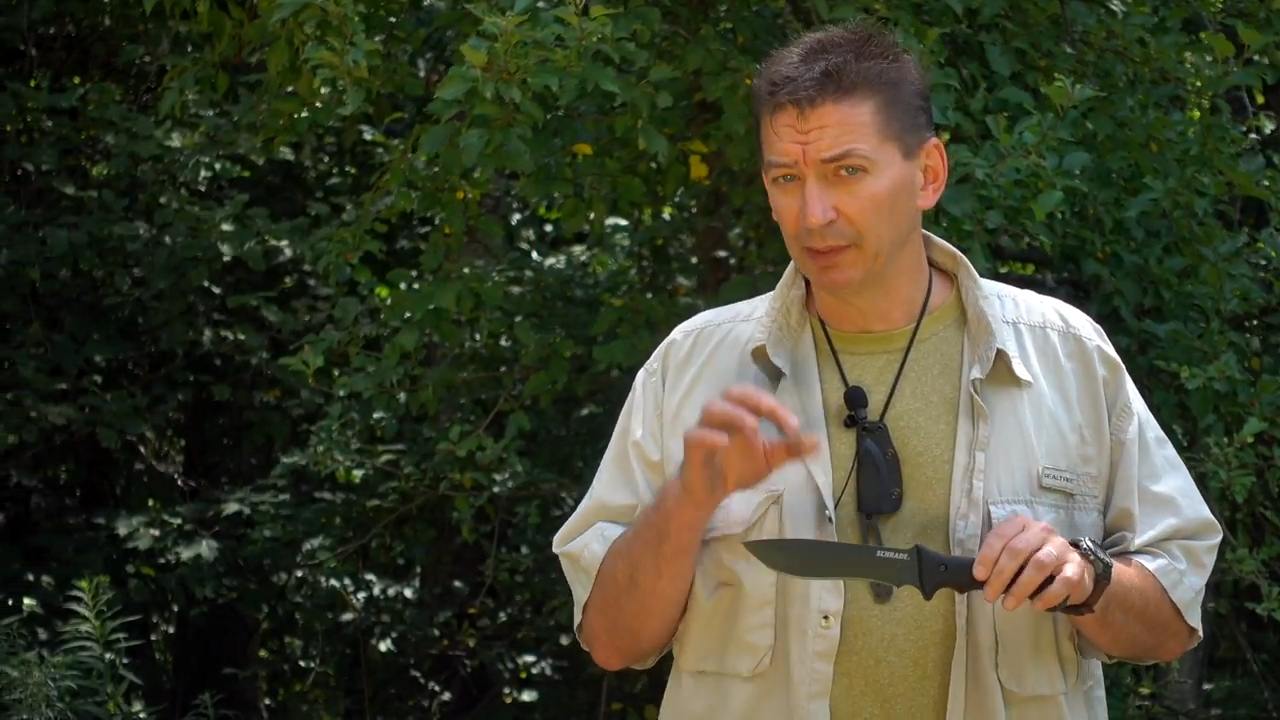knife: (737, 520, 1086, 617)
